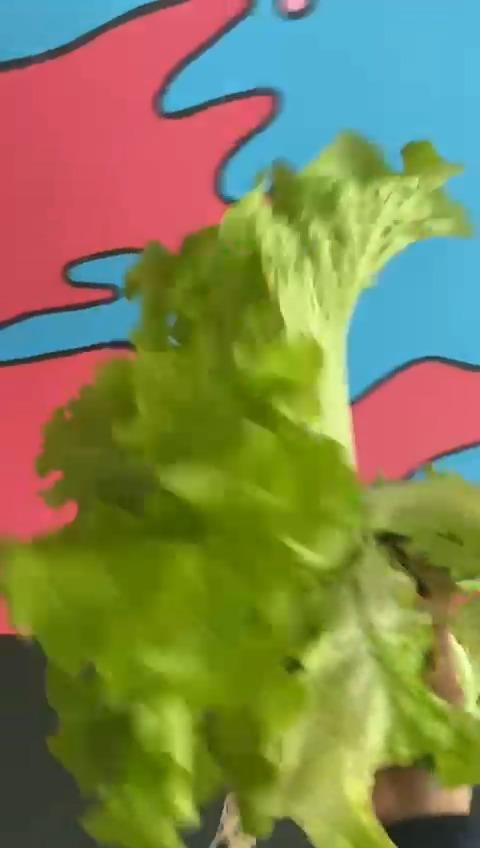Healthy Lettuce: (0, 125, 480, 848)
